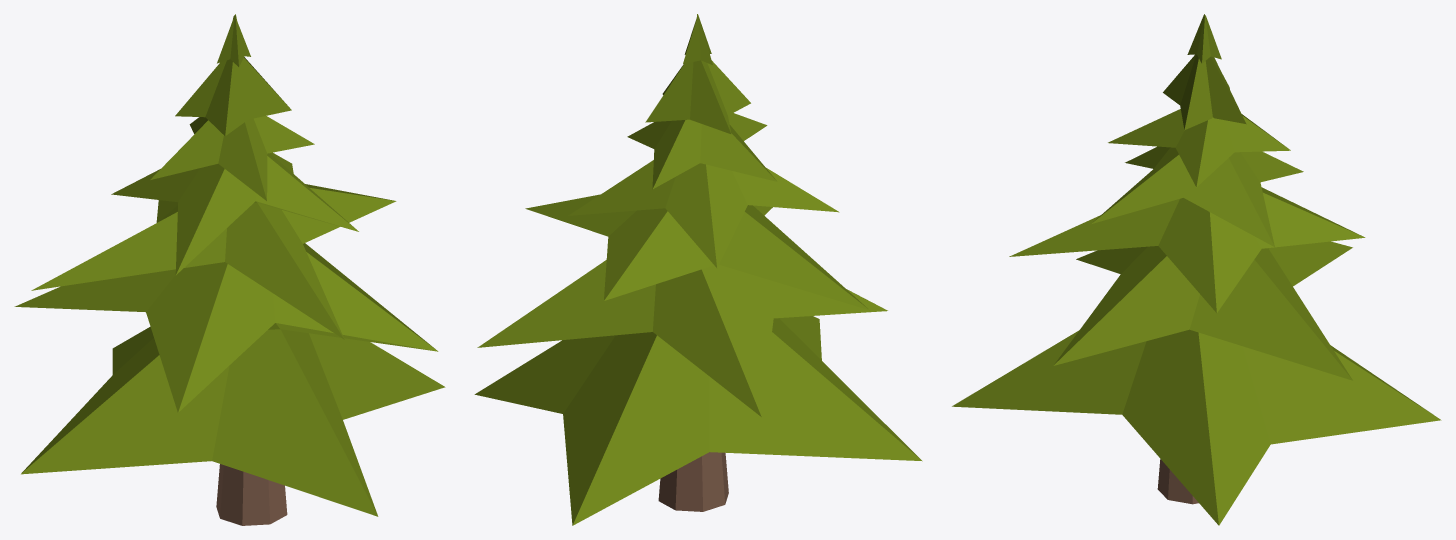
File: Kuusi1Rangeriin.fbx
3 renders of one model, left to right at view 1: azimuth 30°, elevation 25°; view 2: azimuth 150°, elevation 25°; view 3: azimuth 270°, elevation 25°, orthographic. The views are drawn at different scales.
Parts seen in each view (by area): view 1: Cylinder; view 2: Cylinder; view 3: Cylinder.
Part boxes in pixels (bbox=[...]): Cylinder: bbox=[14, 14, 445, 525]; Cylinder: bbox=[474, 14, 922, 525]; Cylinder: bbox=[952, 14, 1441, 525].
Bounding box in the file's own units: 1379 × 1485 × 1402.
